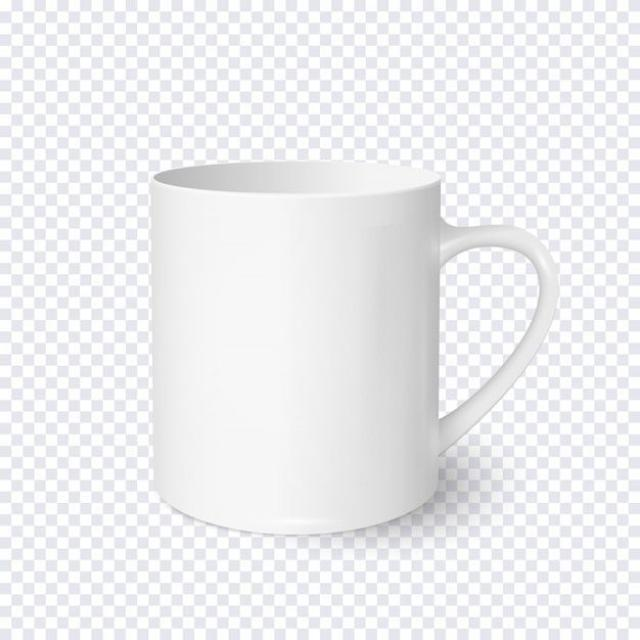glass cup: (150, 161, 560, 535)
